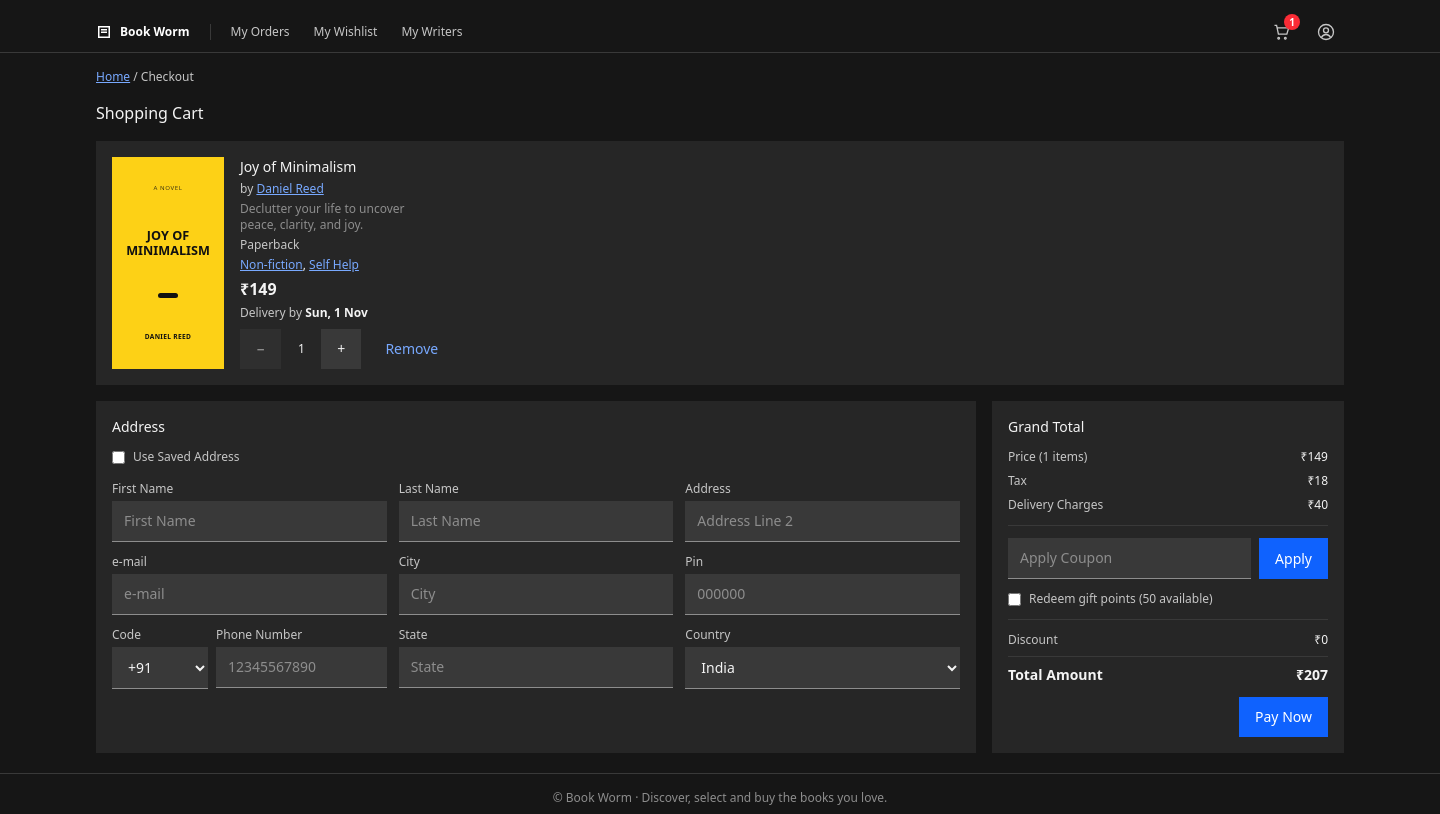
Test: App flows › rejects an invalid coupon
Type "nope" into the field labelled "Apply Coupon" at point(1130, 558), box [1008, 538, 1251, 579]
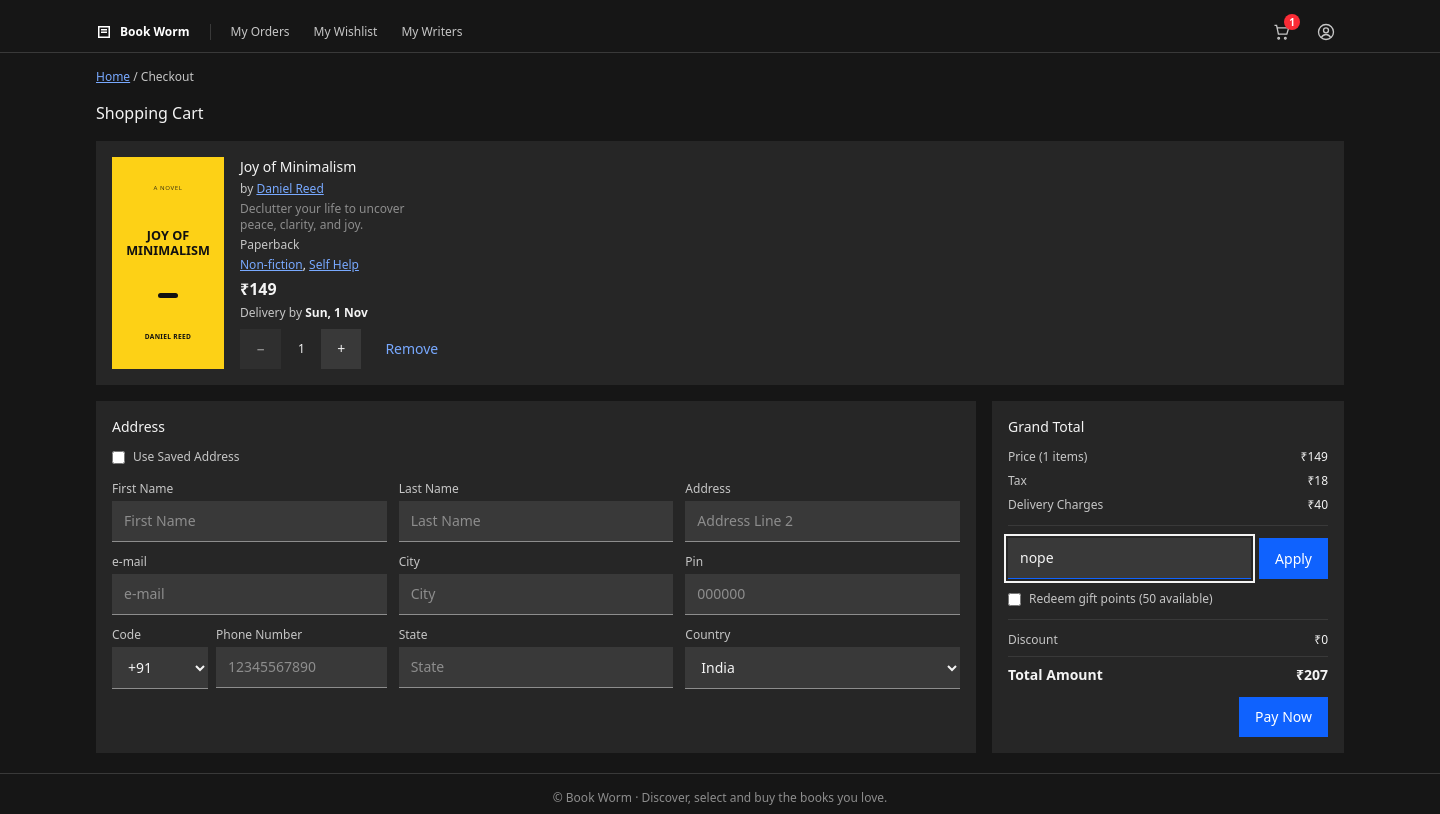
Click the button "Apply" at point(1294, 558), box [1259, 538, 1328, 579]
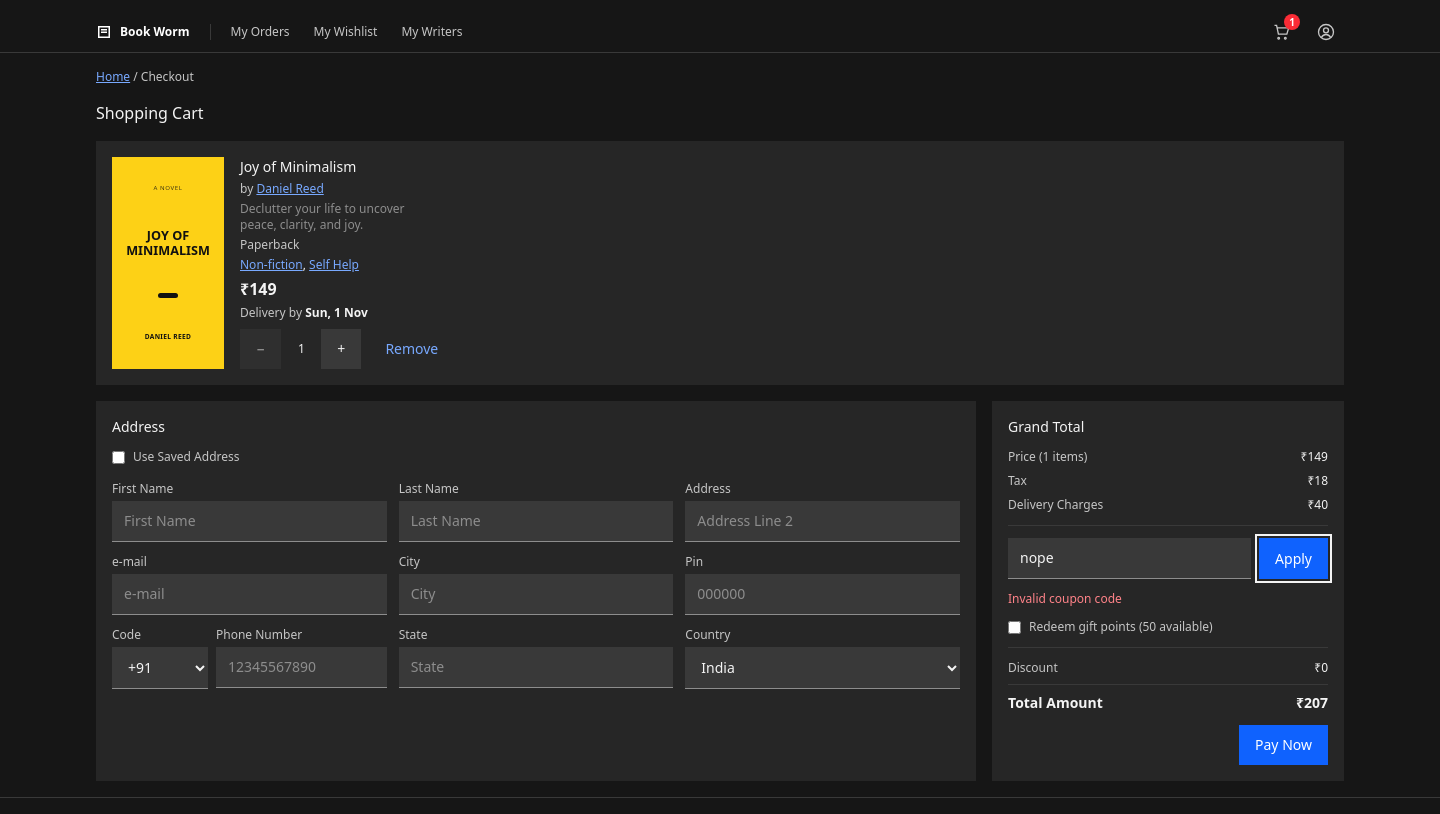
Expected: the text "Invalid coupon code" is shown, [1008, 590, 1122, 607]
